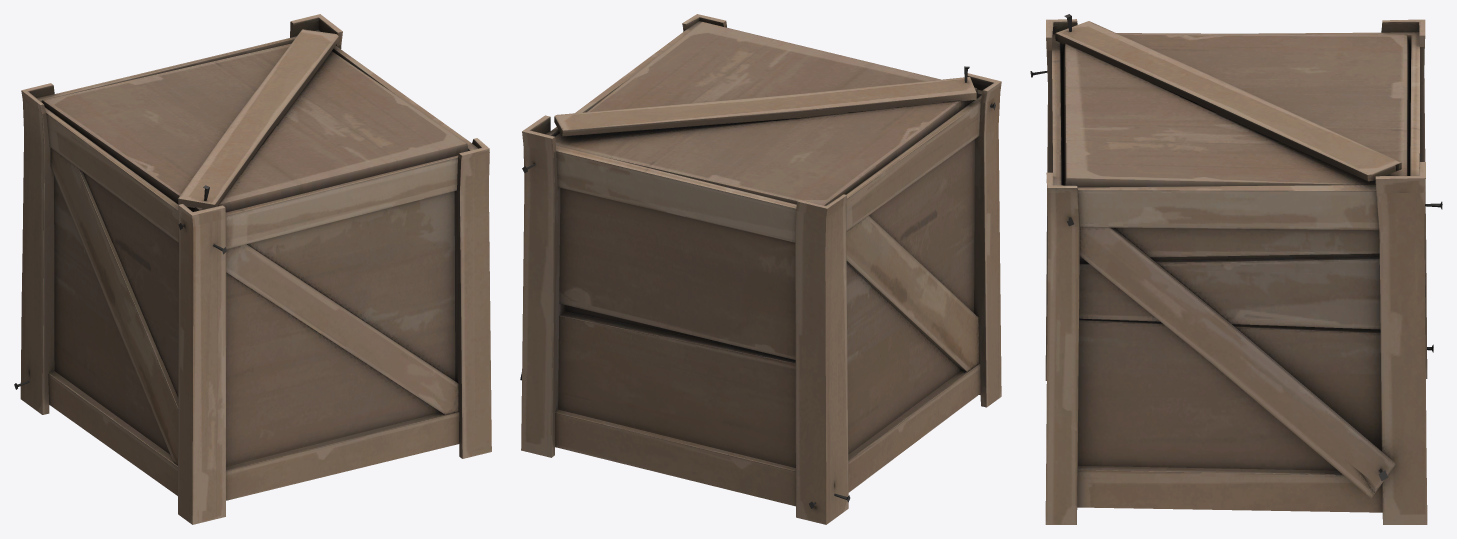
Rendered from barrel_crate_half.glb.
The picture shows the model from 3 angles, left to right: view 1: azimuth 30°, elevation 25°; view 2: azimuth 150°, elevation 25°; view 3: azimuth 270°, elevation 25°; orthographic projection. The views are drawn at different scales.
Parts seen in each view (by area): view 1: barrel_crate_half; view 2: barrel_crate_half; view 3: barrel_crate_half.
Part boxes in pixels (box(x1,y1,x2,y2)): barrel_crate_half: box(14, 14, 491, 524); barrel_crate_half: box(520, 14, 1001, 524); barrel_crate_half: box(1030, 14, 1442, 524).
Bounding box in the file's own units: 1.57 × 1.47 × 1.52.
Materials: 1 (1 with a texture image).
